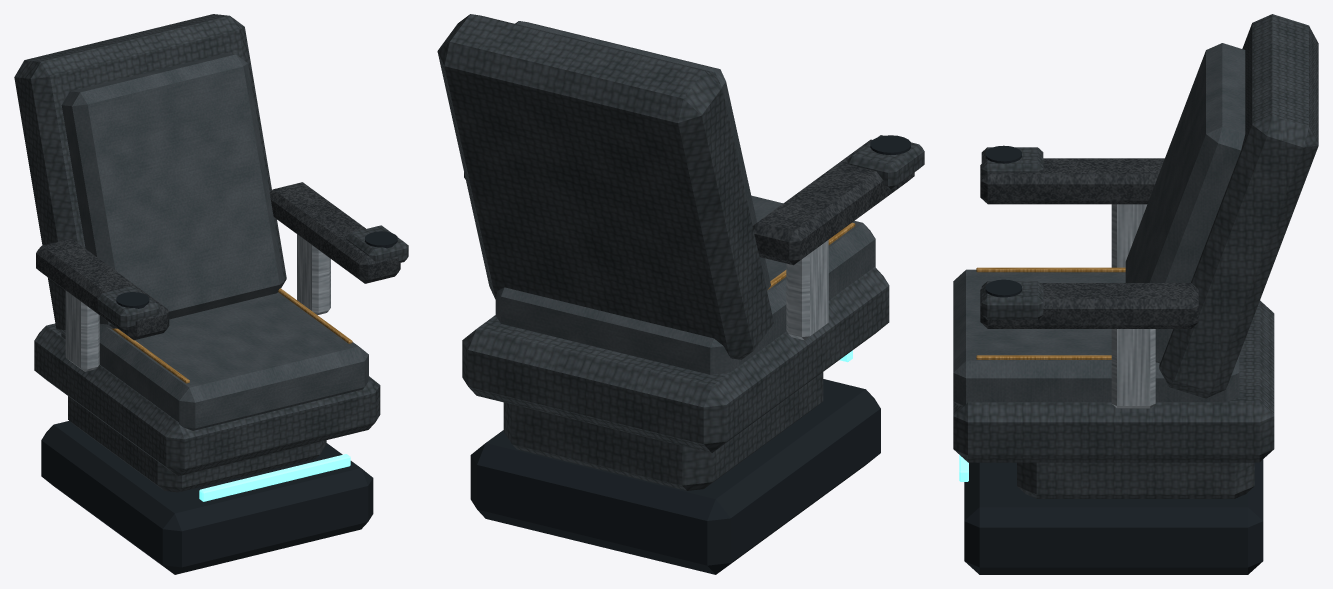
Rendered from cinema_seat.glb.
3 renders of one model, left to right at view 1: azimuth 30°, elevation 25°; view 2: azimuth 150°, elevation 25°; view 3: azimuth 270°, elevation 25°, orthographic. The views are drawn at different scales.
Parts seen in each view (by area): view 1: fixed_fabric, fixed_hull, fixed_black, fixed_leather, fixed_trim, fixed_teal, fixed_brass; view 2: fixed_hull, fixed_black, fixed_fabric, fixed_leather, fixed_trim; view 3: fixed_hull, fixed_fabric, fixed_black, fixed_leather, fixed_trim, fixed_brass.
Part boxes in pixels (left/top/right/bottom): fixed_fabric: left=61, top=53, right=368, bottom=430; fixed_hull: left=14, top=14, right=408, bottom=492; fixed_black: left=41, top=231, right=397, bottom=574; fixed_leather: left=36, top=182, right=400, bottom=340; fixed_trim: left=65, top=234, right=330, bottom=371; fixed_teal: left=199, top=454, right=350, bottom=501; fixed_brass: left=111, top=288, right=352, bottom=383; fixed_hull: left=437, top=14, right=924, bottom=490; fixed_black: left=470, top=135, right=910, bottom=574; fixed_fabric: left=495, top=21, right=875, bottom=374; fixed_leather: left=464, top=139, right=914, bottom=265; fixed_trim: left=786, top=240, right=828, bottom=340; fixed_hull: left=953, top=14, right=1318, bottom=498; fixed_fabric: left=953, top=43, right=1245, bottom=405; fixed_black: left=964, top=145, right=1263, bottom=574; fixed_leather: left=980, top=158, right=1198, bottom=328; fixed_trim: left=1111, top=204, right=1155, bottom=408; fixed_brass: left=976, top=267, right=1125, bottom=359.
Bounding box in the file's own units: 0.835 × 1.15 × 0.8308.
Materials: 7 (5 with a texture image).
